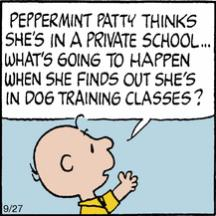charlie: (30, 114, 138, 216)
